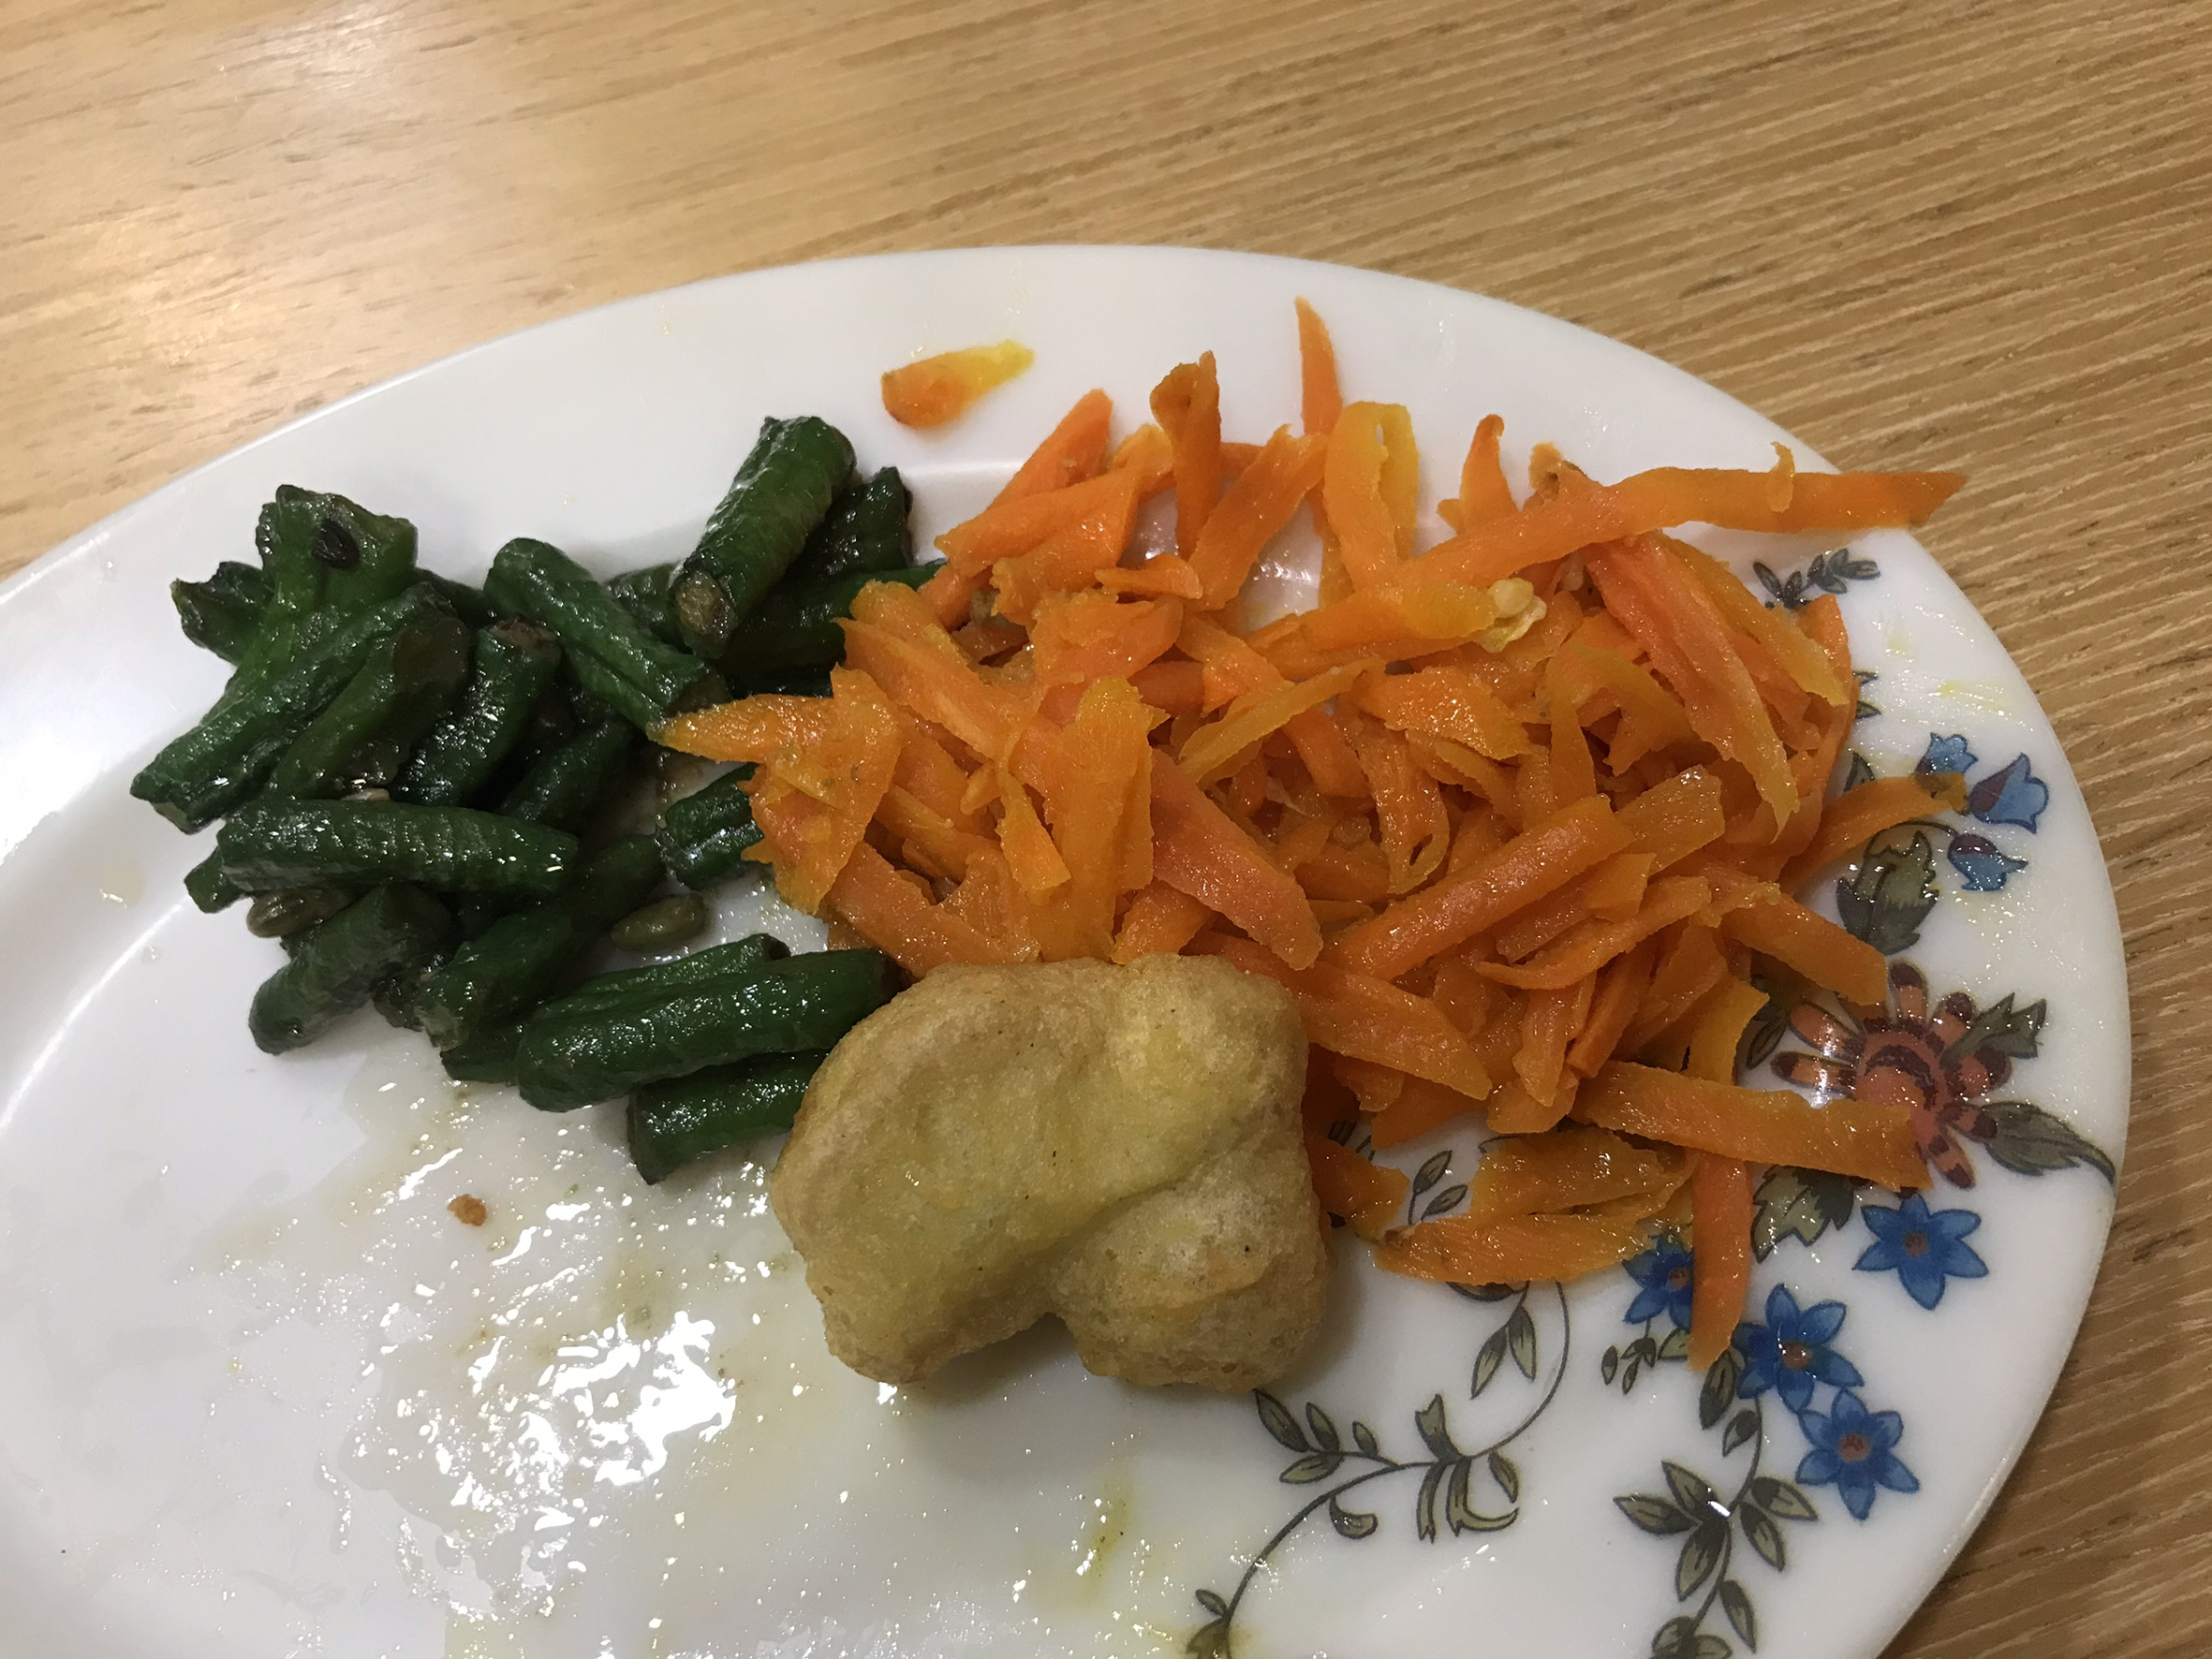carrot_eggs: (751, 423, 1844, 1124)
chicken_nuggets: (769, 957, 1327, 1389)
